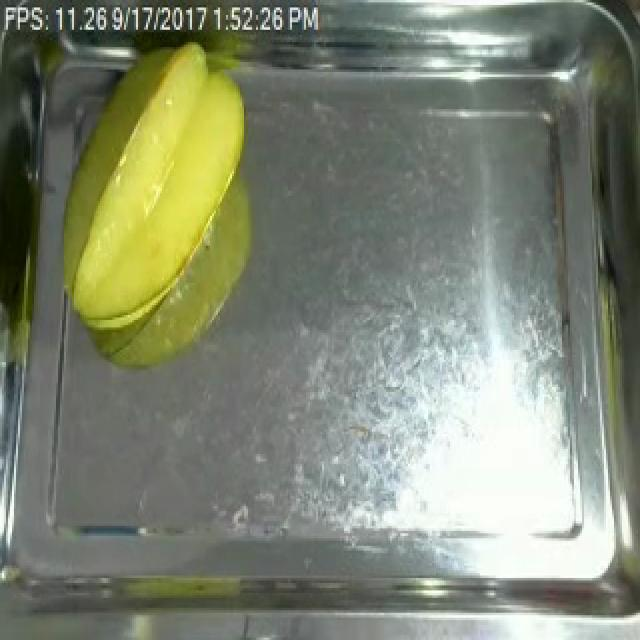fruit: (64, 32, 258, 350)
